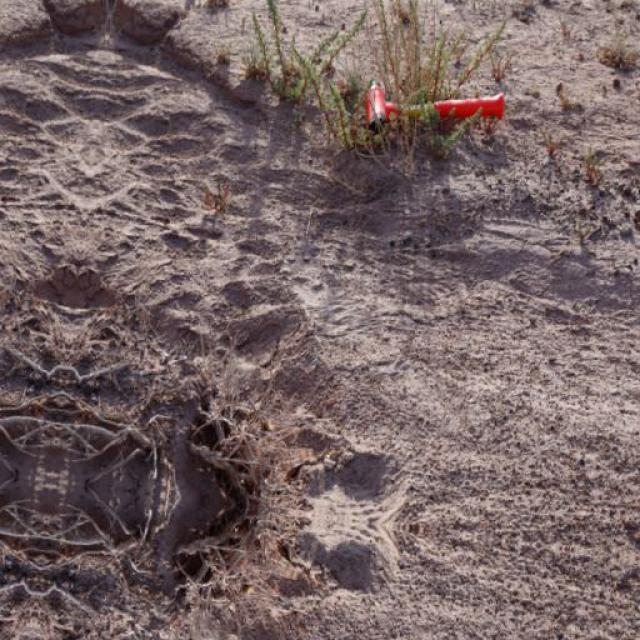mallet: (363, 80, 505, 135)
